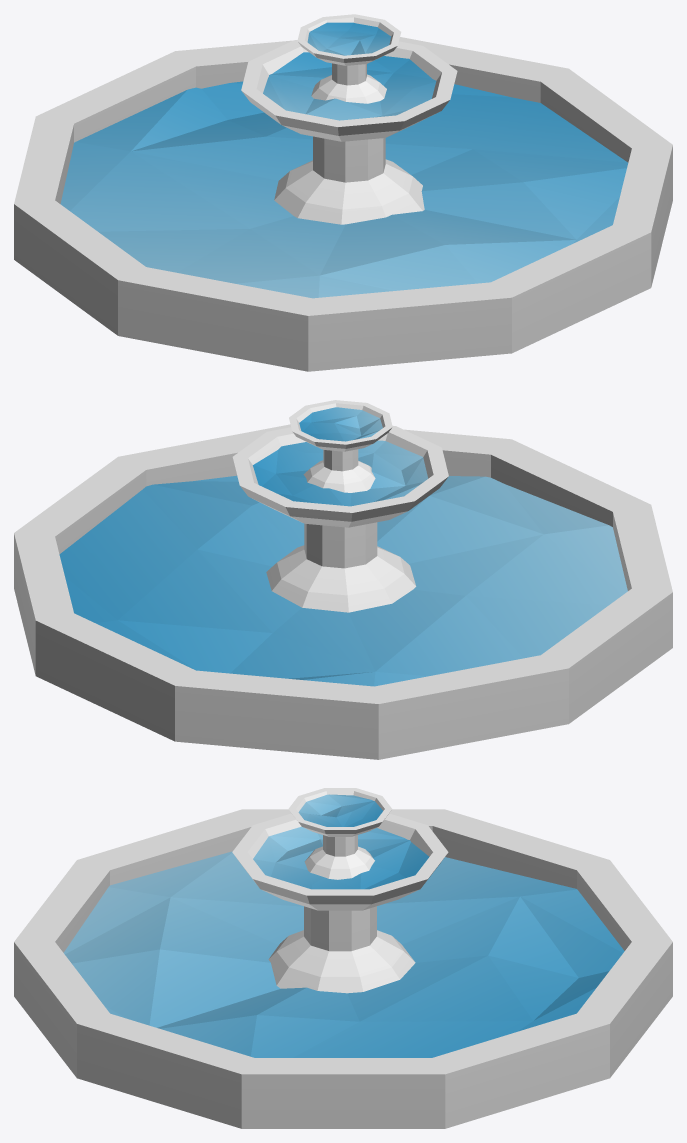
File: fountain.fbx
3 renders of one model, top to bottom at view 1: azimuth 30°, elevation 25°; view 2: azimuth 150°, elevation 25°; view 3: azimuth 270°, elevation 25°, orthographic. The views are drawn at different scales.
Visible parts, largest first — view 1: fountain; view 2: fountain; view 3: fountain.
Part boxes in pixels (left/top/right/bottom): fountain: left=14, top=14, right=672, bottom=371; fountain: left=14, top=400, right=672, bottom=759; fountain: left=14, top=788, right=672, bottom=1128.
Size of the model in its own units: 603 by 201 by 634.
